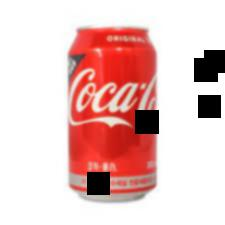cocacola: (54, 21, 169, 208)
